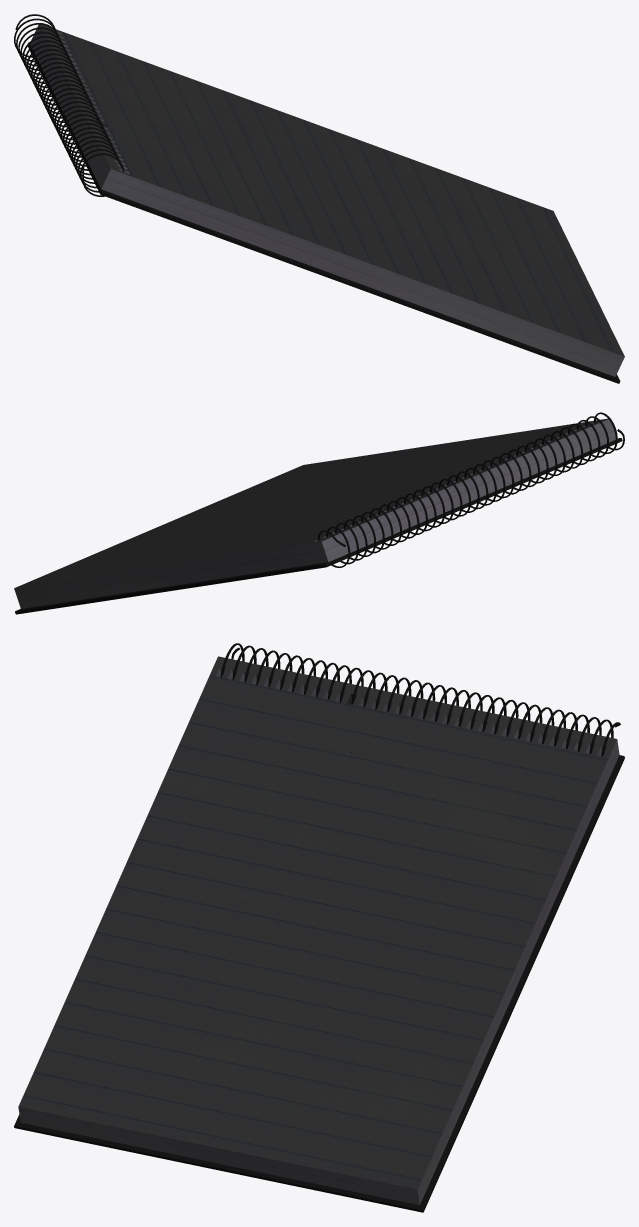
File: note.glb
3 renders of one model, top to bottom at view 1: azimuth 30°, elevation 25°; view 2: azimuth 150°, elevation 25°; view 3: azimuth 270°, elevation 25°, orthographic. The views are drawn at different scales.
Parts seen in each view (by area): view 1: Paper, Binding, Cartonage; view 2: Paper, Binding, Cartonage; view 3: Paper, Cartonage, Binding.
Part boxes in pixels (bbox=[...]): Paper: bbox=[30, 24, 624, 376]; Binding: bbox=[14, 14, 124, 196]; Cartonage: bbox=[28, 42, 620, 383]; Paper: bbox=[14, 418, 617, 608]; Binding: bbox=[317, 412, 624, 567]; Cartonage: bbox=[15, 438, 622, 614]; Paper: bbox=[18, 656, 619, 1205]; Cartonage: bbox=[14, 755, 624, 1212]; Binding: bbox=[220, 643, 620, 756].
Size of the model in its own units: 2.24 by 1.06 by 2.01.
Materials: 4 (3 with a texture image).
